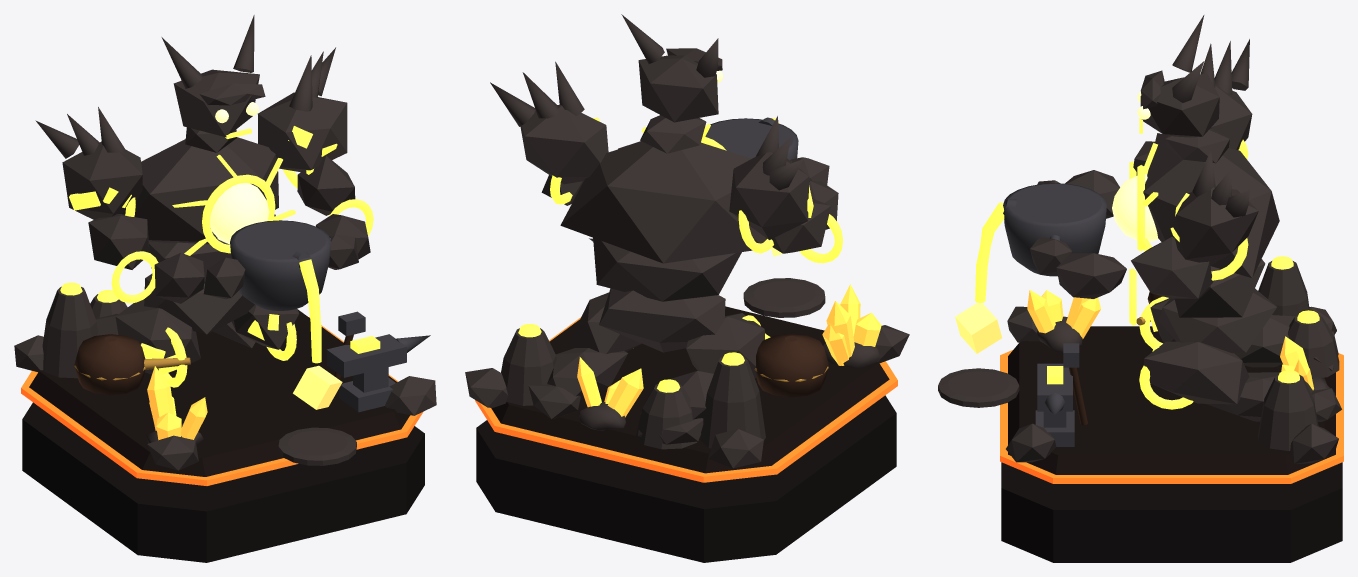
Rendered from MagmaGolemForge_Roblox.fbx.
3 renders of one model, left to right at view 1: azimuth 30°, elevation 25°; view 2: azimuth 150°, elevation 25°; view 3: azimuth 270°, elevation 25°, orthographic. The views are drawn at different scales.
Parts seen in each view (by area): view 1: Basalt, Black, CooledLava, ForgeIron, LavaGlow, EmberTrim, CharredWood, MagmaCore, FireCrystal, EmberOre, Brass; view 2: Basalt, Black, CooledLava, EmberTrim, FireCrystal, CharredWood, LavaGlow, ForgeIron; view 3: Basalt, Black, CooledLava, ForgeIron, LavaGlow, EmberTrim, FireCrystal, MagmaCore, EmberOre, CharredWood.
Boxes of the visible parts, box(x1,y1,x2,y2) form: Basalt: box(14, 15, 436, 470); Black: box(22, 402, 424, 562); CooledLava: box(29, 309, 410, 476); ForgeIron: box(230, 220, 430, 412); LavaGlow: box(60, 126, 380, 387); EmberTrim: box(21, 317, 423, 485); CharredWood: box(74, 334, 353, 396); MagmaCore: box(210, 102, 269, 244); FireCrystal: box(147, 366, 207, 440); EmberOre: box(293, 365, 342, 409); Brass: box(74, 357, 190, 380); Basalt: box(465, 14, 909, 468); Black: box(476, 395, 896, 562); CooledLava: box(491, 306, 889, 473); EmberTrim: box(475, 317, 897, 482); FireCrystal: box(577, 284, 881, 417); CharredWood: box(756, 333, 828, 397); LavaGlow: box(518, 117, 842, 392); ForgeIron: box(589, 117, 798, 241); Basalt: box(938, 15, 1341, 463); Black: box(1001, 462, 1342, 562); CooledLava: box(1008, 326, 1335, 474); ForgeIron: box(1003, 183, 1106, 446); LavaGlow: box(975, 118, 1319, 409); EmberTrim: box(1000, 350, 1343, 483); FireCrystal: box(1027, 290, 1313, 390); MagmaCore: box(1112, 91, 1158, 241); EmberOre: box(955, 302, 1001, 353); CharredWood: box(1069, 291, 1162, 425).
Bounding box in the file's own units: 1100 × 1540 × 1249.
